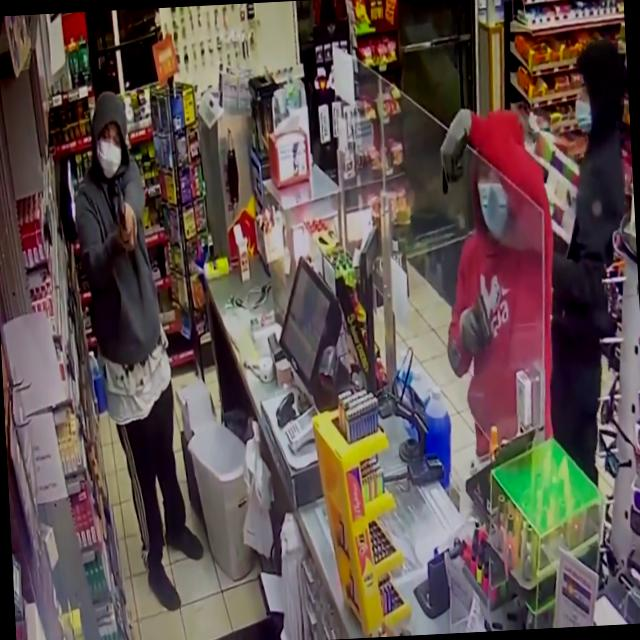handgun: (466, 278, 504, 359), (112, 172, 134, 255)
